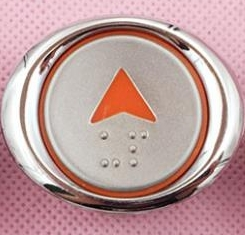Braille: (101, 131, 120, 168), (129, 130, 148, 167)
